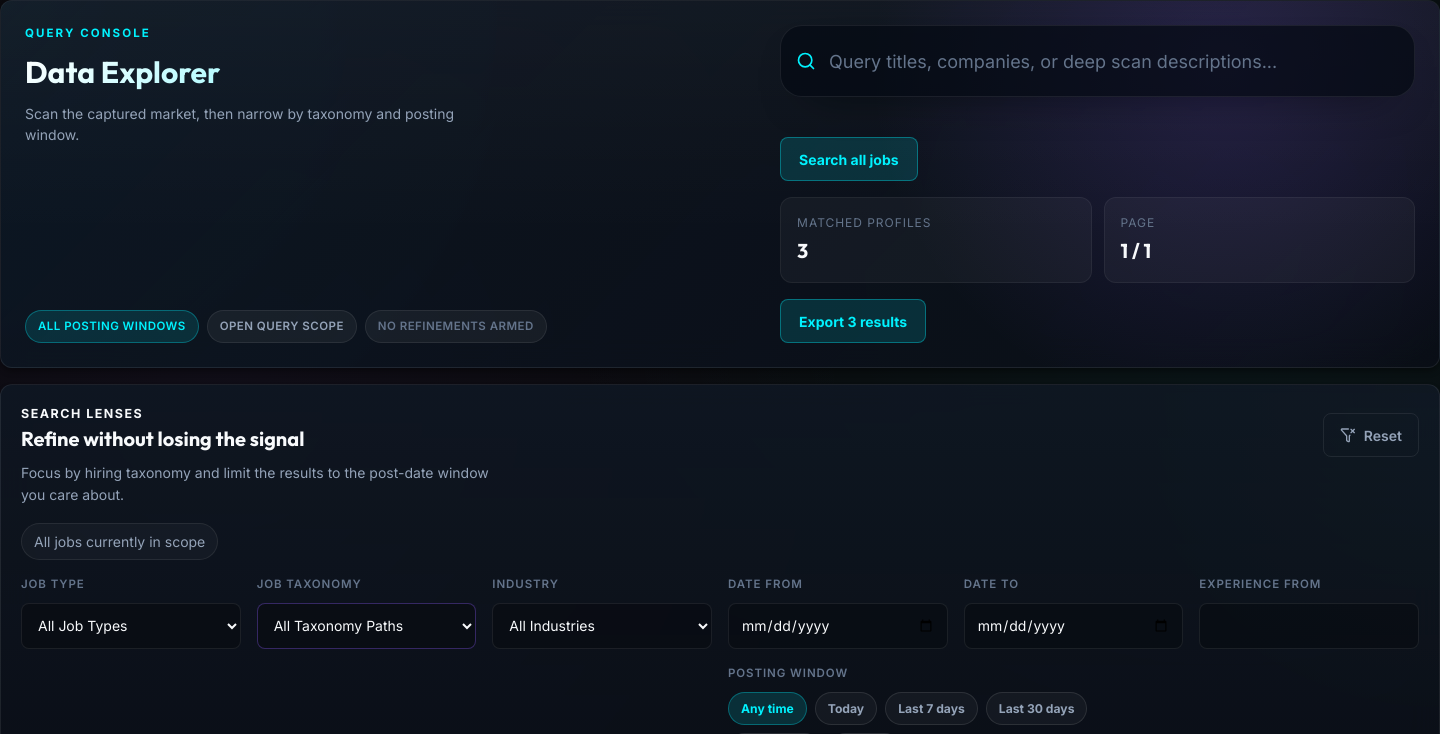
JobBrowser › formats validation detail arrays into a readable system error
The image size is (1440, 734).
Type "erp" into the field with placeholder "Query titles, companies, or deep scan descriptions...".
click(1098, 61); type("erp")  # box x1=780 y1=25 x2=1415 y2=97
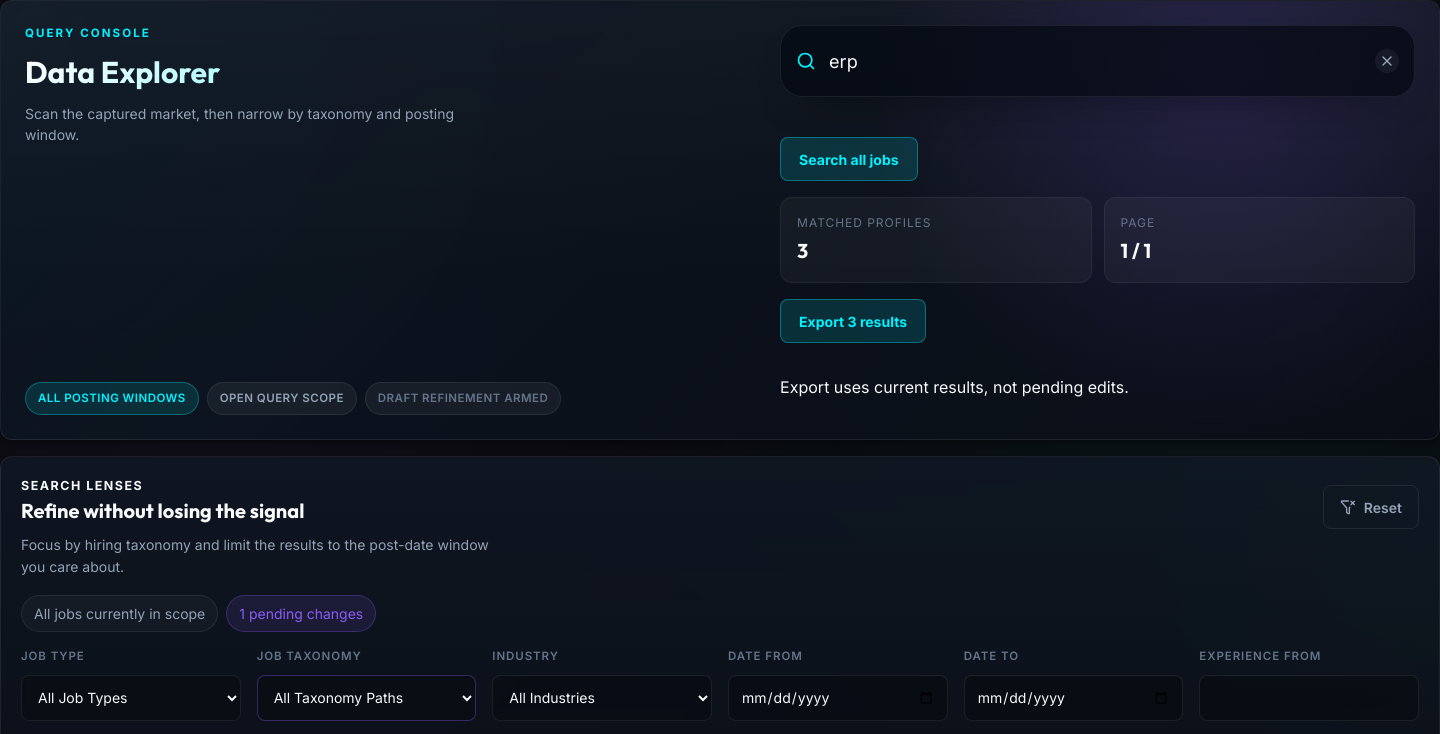
Click the button "Search all jobs".
click(849, 159)  # box x1=780 y1=137 x2=918 y2=181
(page scrolled)
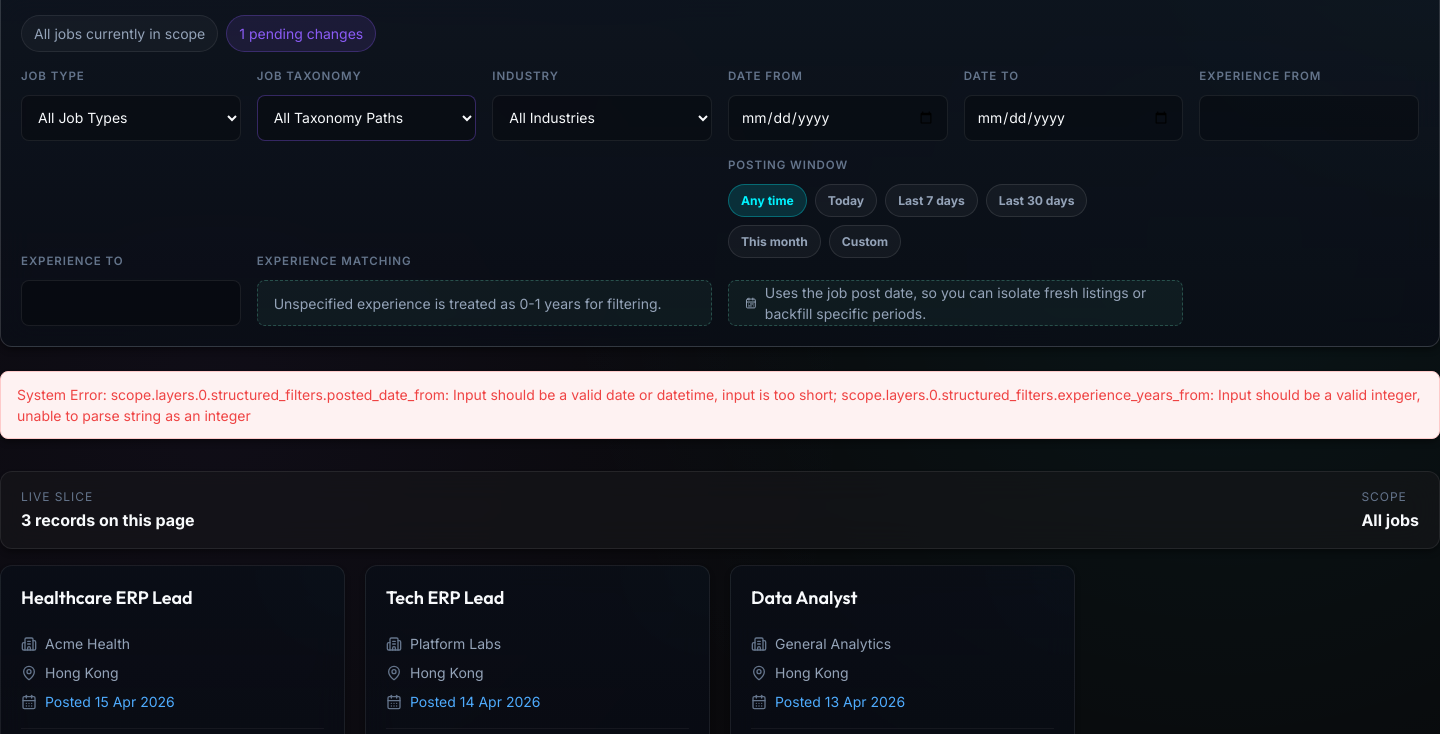
Expected: the text "scope.layers.0.structured_filters.experience_years_from: input should be a valid integer" is shown, x1=17 y1=386 x2=1420 y2=424
